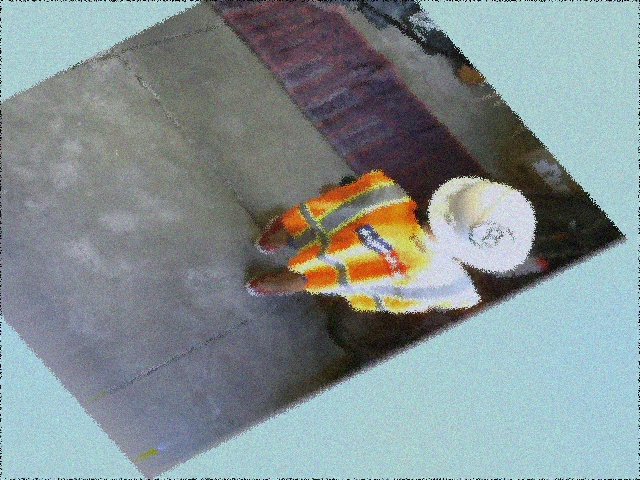eight: (462, 214, 523, 261)
